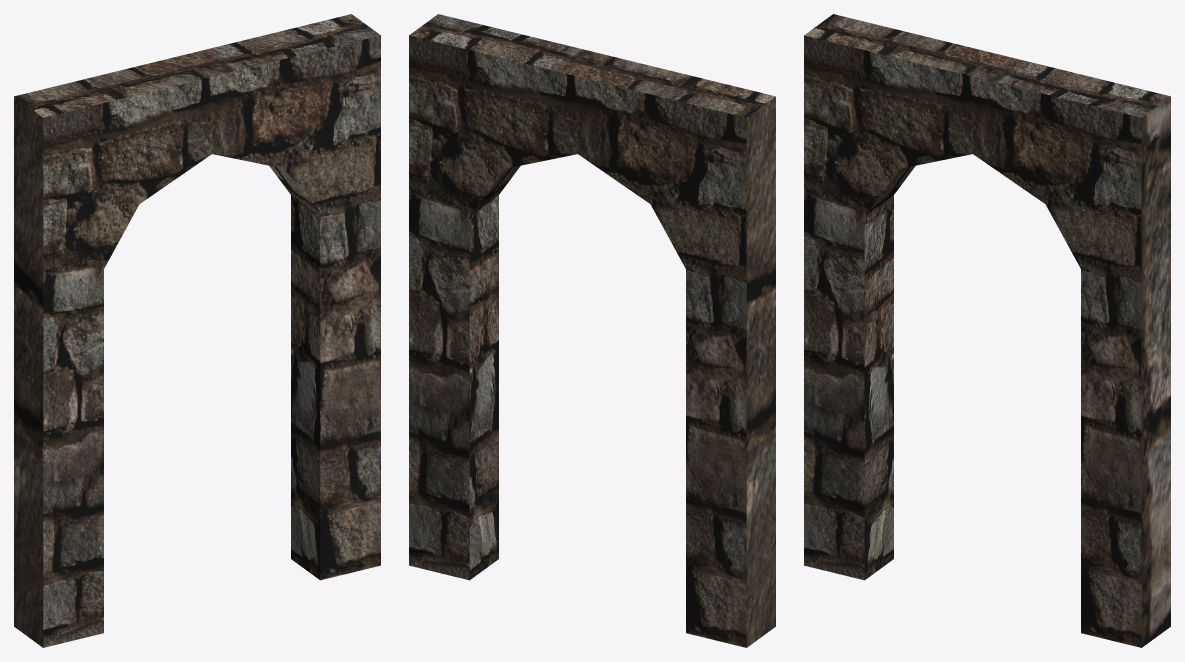
Rendered from DoorFrame.fbx.
The picture shows the model from 3 angles, left to right: view 1: azimuth 30°, elevation 25°; view 2: azimuth 150°, elevation 25°; view 3: azimuth 330°, elevation 25°; orthographic projection.
Parts seen in each view (by area): view 1: DoorFrame; view 2: DoorFrame; view 3: DoorFrame.
Part boxes in pixels (x1,y1,x2,y2): DoorFrame: (14,14,380,647); DoorFrame: (409,14,775,647); DoorFrame: (804,14,1170,647).
Bounding box in the file's own units: 200 × 300 × 30.
Materials: 1 (1 with a texture image).
